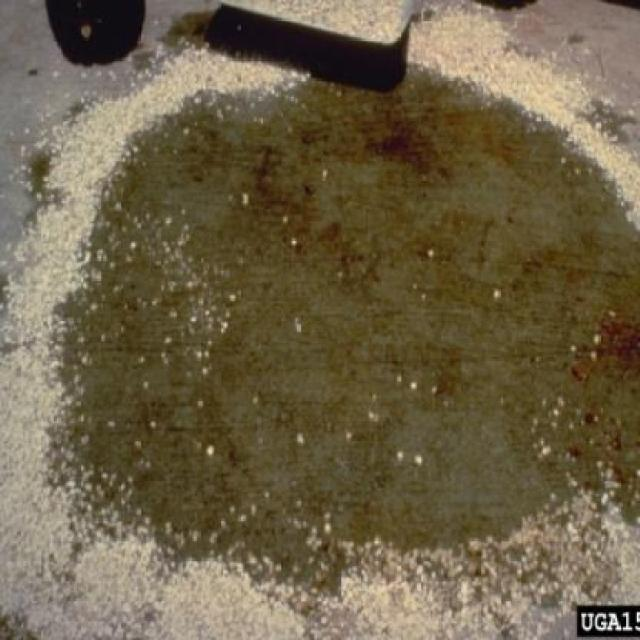spillage: (59, 69, 640, 556)
